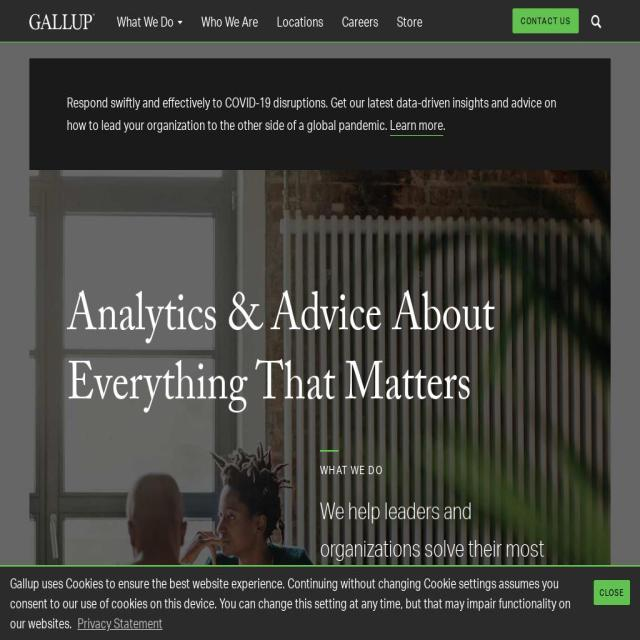button: (107, 0, 192, 42), (192, 0, 267, 42), (30, 0, 99, 42), (268, 0, 332, 42), (332, 0, 388, 42), (387, 0, 432, 42), (512, 8, 578, 34), (320, 621, 385, 640), (582, 0, 610, 42), (390, 115, 443, 136), (593, 580, 630, 605)
heading: (67, 287, 573, 425)
image: (30, 13, 99, 32), (591, 14, 601, 28)
link: (78, 615, 162, 632)
text: (10, 575, 571, 632), (320, 493, 573, 605), (67, 95, 556, 134), (320, 450, 573, 476), (328, 628, 378, 640), (443, 117, 446, 133)
